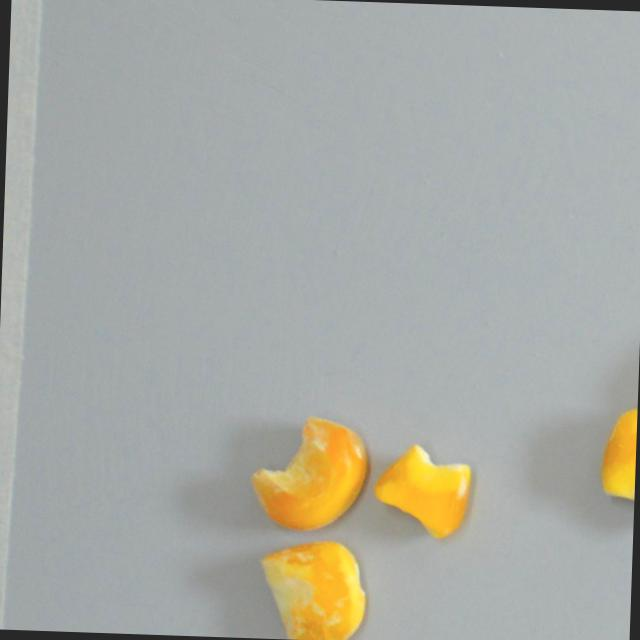no_canjicado: (371, 441, 472, 542)
pelicula: (247, 411, 369, 533), (256, 537, 368, 640), (597, 404, 637, 529)
